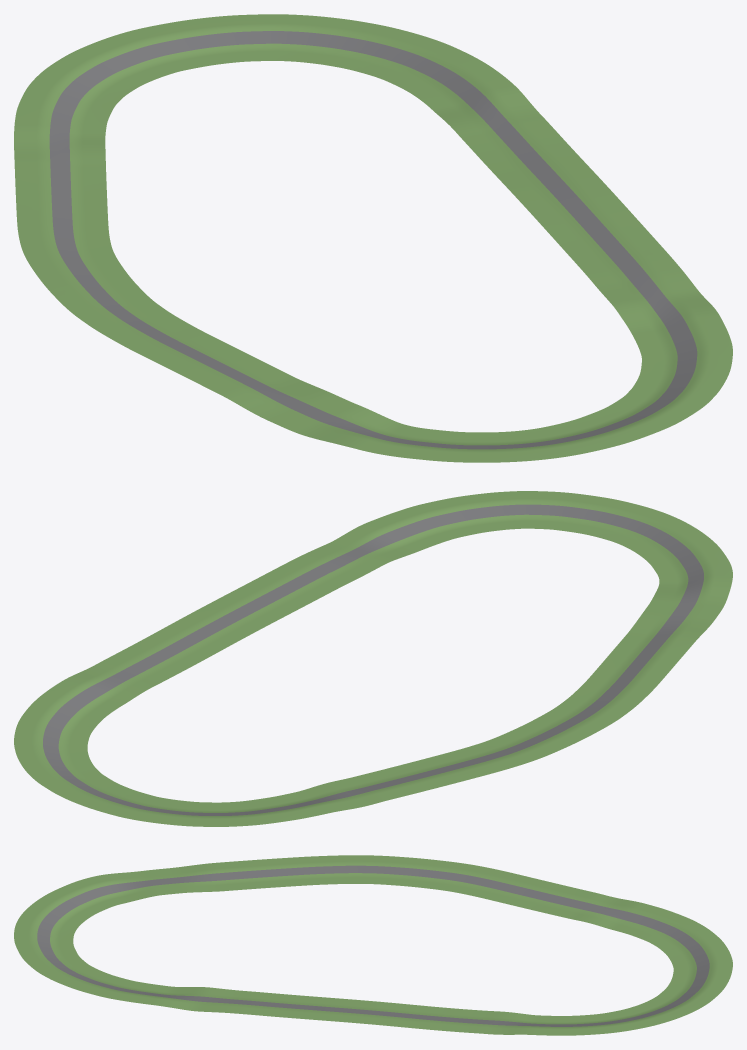
The model's file is road_mesh.glb.
The picture shows the model from 3 angles, top to bottom: view 1: azimuth 30°, elevation 25°; view 2: azimuth 150°, elevation 25°; view 3: azimuth 270°, elevation 25°; orthographic projection. The views are drawn at different scales.
Visible parts, largest first — view 1: road_08, road_09, road_07, road_05, road_10, road_04, road_06, road_11, road_01, road_00, road_03, road_02; view 2: road_03, road_04, road_07, road_06, road_05, road_02, road_01, road_00, road_08, road_11, road_10, road_09; view 3: road_10, road_00, road_11, road_02, road_01, road_09, road_03, road_05, road_06, road_08, road_04, road_07.
Boxes of the visible parts, x1,y1,x2,y2 form: road_08: (183, 14, 425, 75); road_09: (22, 20, 213, 113); road_07: (371, 37, 547, 139); road_05: (537, 203, 695, 302); road_10: (14, 98, 110, 198); road_04: (610, 288, 732, 384); road_06: (463, 122, 621, 219); road_11: (15, 194, 131, 286); road_01: (165, 347, 369, 437); road_00: (46, 279, 234, 366); road_03: (526, 381, 723, 458); road_02: (310, 410, 549, 462); road_03: (478, 491, 671, 544); road_04: (326, 494, 497, 565); road_07: (16, 659, 163, 738); road_06: (106, 601, 271, 681); road_05: (215, 544, 381, 623); road_02: (620, 516, 732, 599); road_01: (602, 595, 726, 669); road_00: (529, 663, 670, 738); road_08: (14, 728, 133, 806); road_11: (403, 723, 583, 786); road_10: (258, 764, 439, 821); road_09: (87, 790, 281, 826); road_10: (525, 883, 676, 937); road_00: (270, 855, 417, 886); road_11: (407, 858, 552, 908); road_02: (19, 872, 149, 930); road_01: (131, 859, 279, 896); road_09: (638, 914, 732, 980); road_03: (14, 919, 102, 984); road_05: (202, 988, 349, 1021); road_06: (340, 999, 485, 1033); road_08: (606, 977, 729, 1030); road_04: (62, 972, 212, 1011); road_07: (477, 1010, 628, 1035).
Bounding box in the file's own units: 550 × 13.17 × 927.
